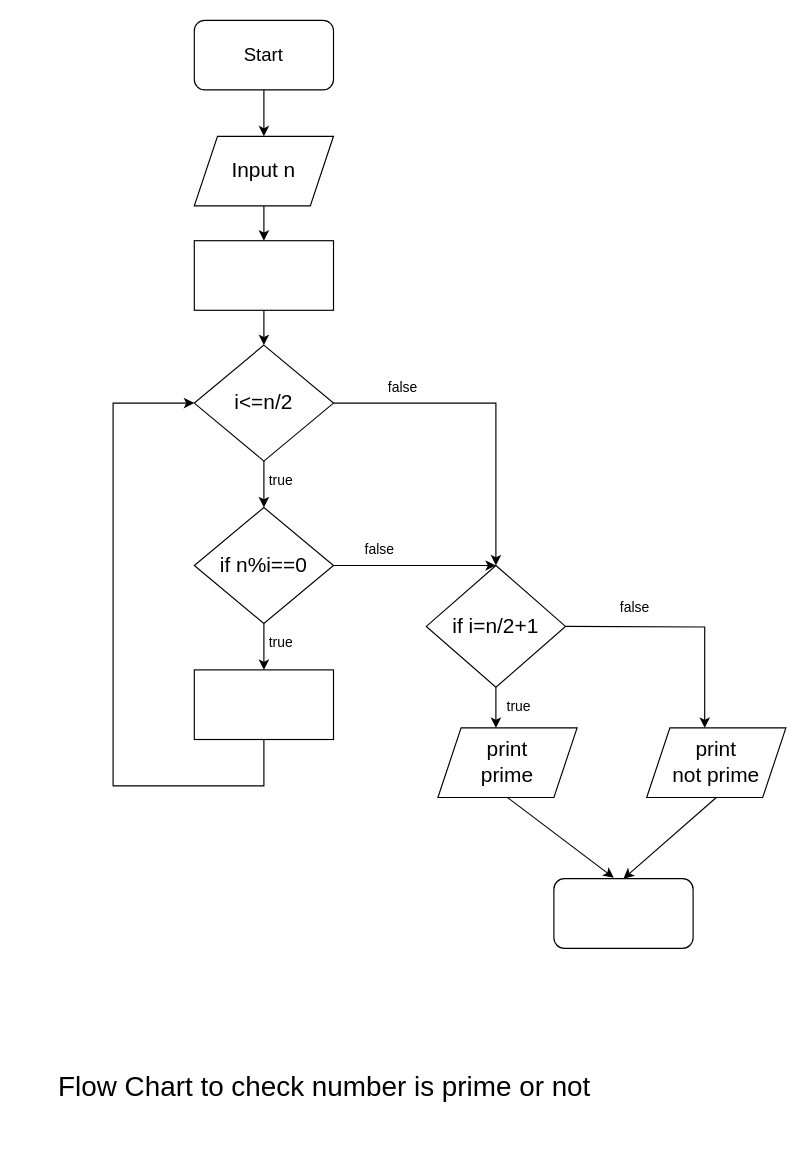
This 806x1154 diagram has some shape labels left out. The shapes that lost their labels are listed below. From the top down, each one's centre as x and y in pixels, then its label:
At (x=263, y=275): "i=2".
At (x=263, y=704): "i=i+1".
At (x=623, y=913): "End".
